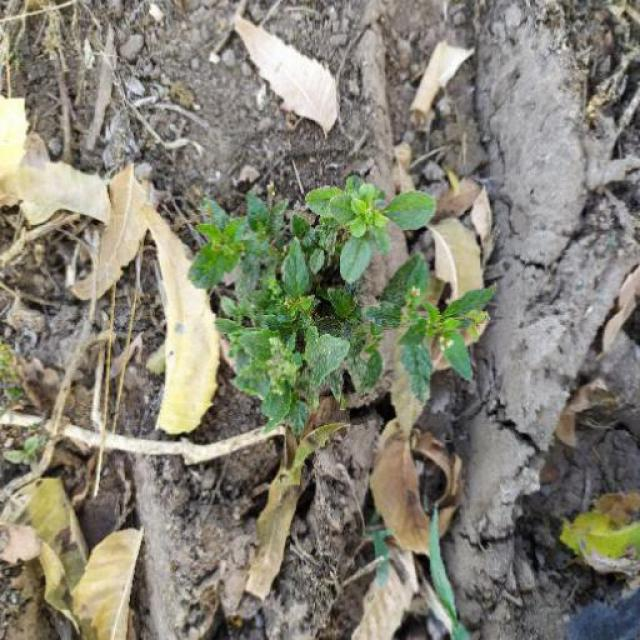weed: (180, 178, 498, 438)
